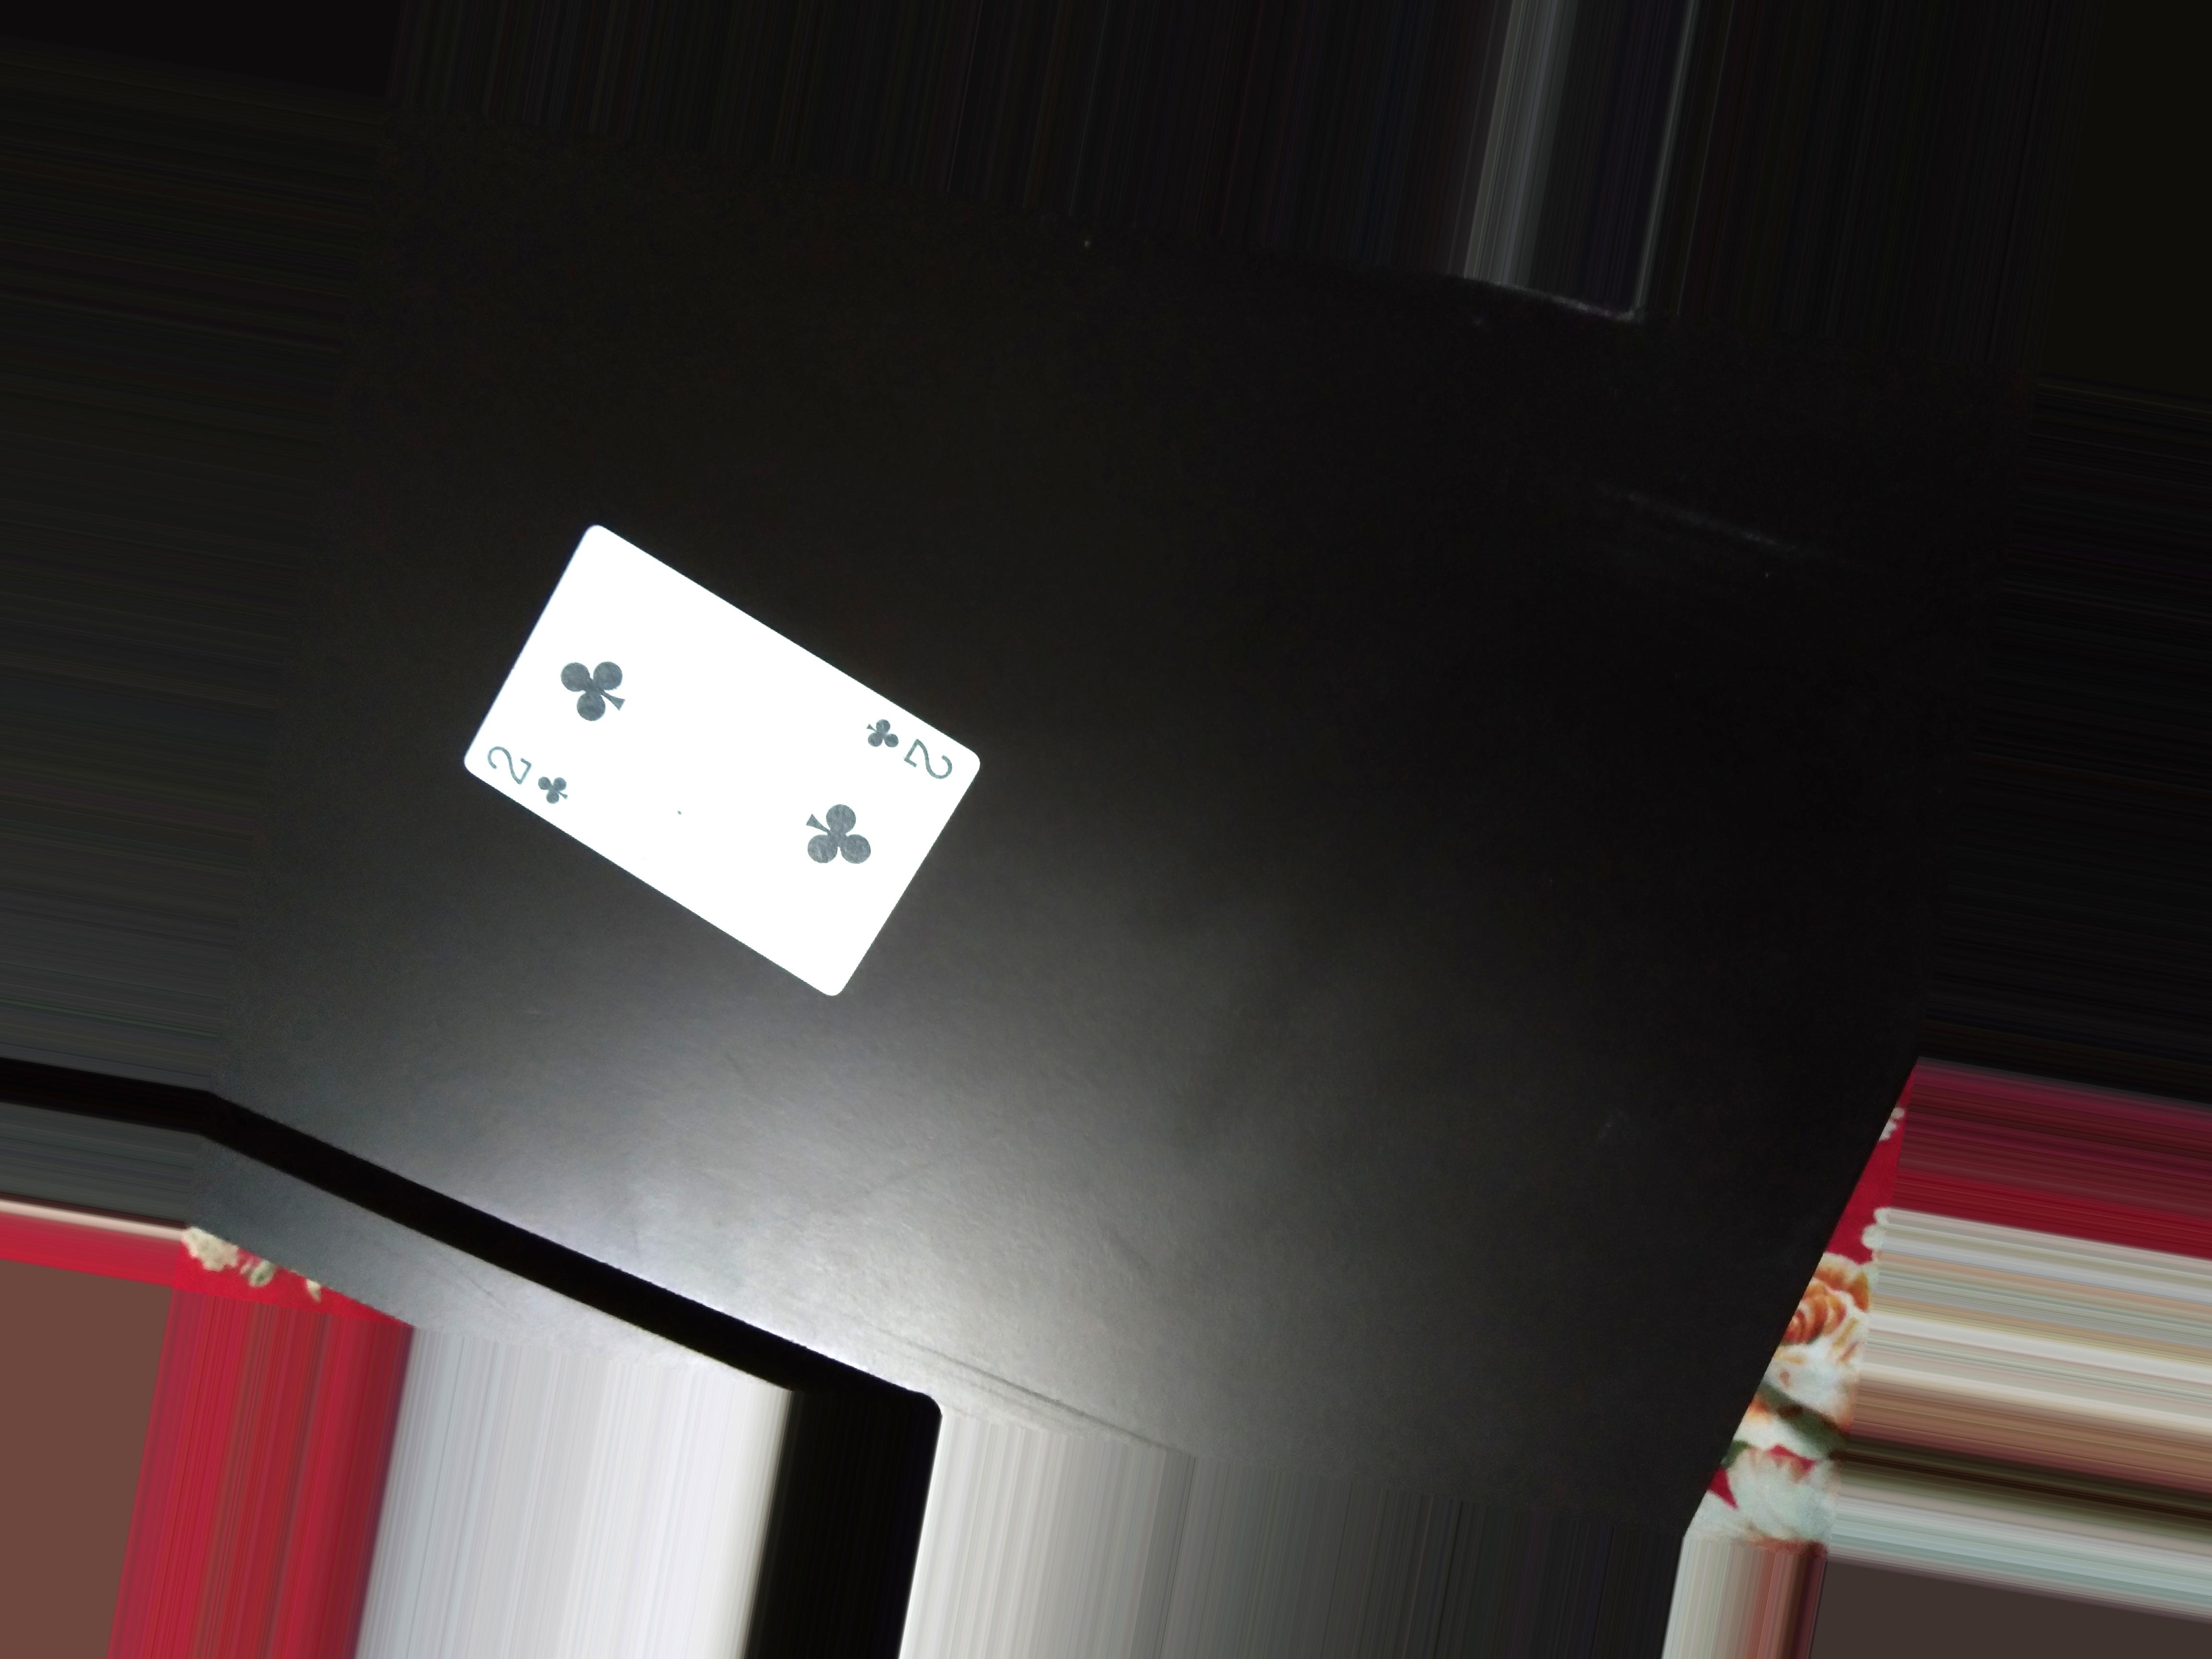2C: (481, 735, 568, 809)
